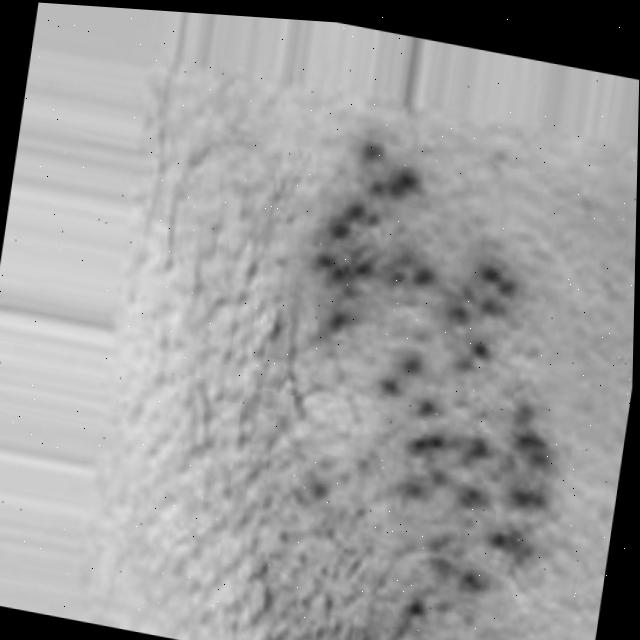Shingles: (272, 161, 608, 627)
